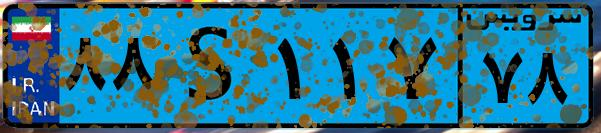1: (270, 28, 330, 110), (330, 28, 385, 110)
7: (385, 28, 445, 110), (475, 38, 525, 113)
8: (57, 26, 110, 100), (525, 38, 570, 115), (110, 28, 158, 98)
S: (158, 12, 270, 120)
